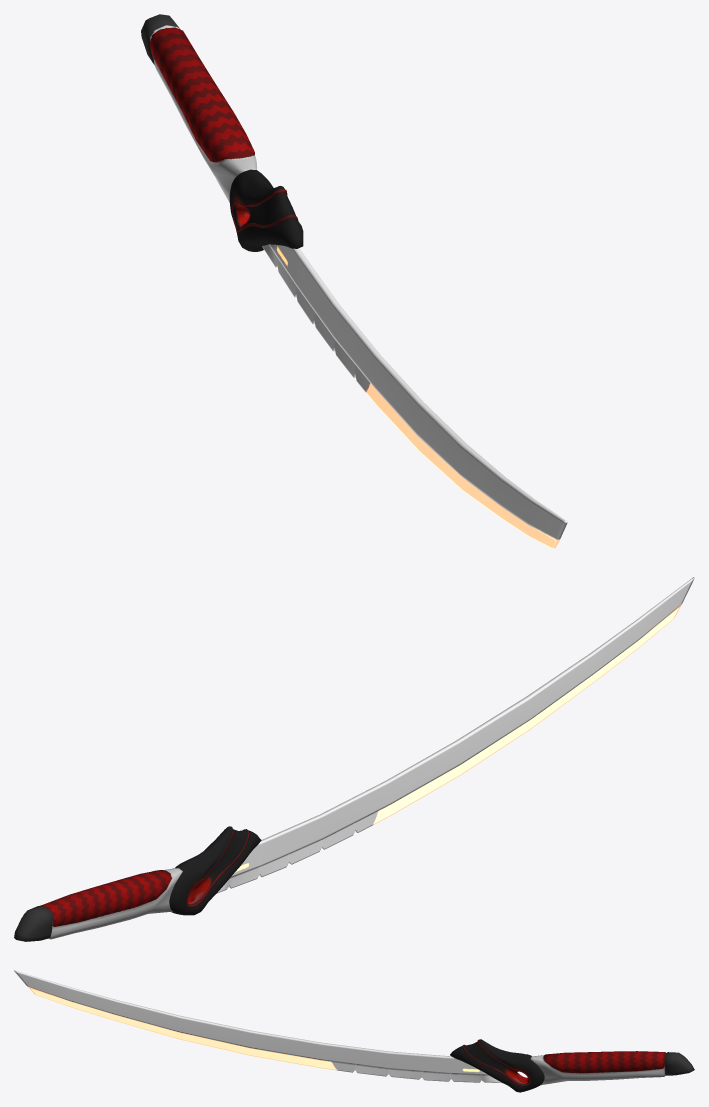
File: KatanaSwordSketchfab.fbx
The picture shows the model from 3 angles, top to bottom: view 1: azimuth 30°, elevation 25°; view 2: azimuth 150°, elevation 25°; view 3: azimuth 270°, elevation 25°; orthographic projection. The views are drawn at different scales.
Parts seen in each view (by area): view 1: Katanaketchfab; view 2: Katanaketchfab; view 3: Katanaketchfab.
Part boxes in pixels (x1,y1,x2,y2): Katanaketchfab: (141,14,567,548); Katanaketchfab: (14,577,694,941); Katanaketchfab: (14,970,694,1092).
Bounding box in the file's own units: 116 × 502 × 59.47.
1 material, 1 textured.
